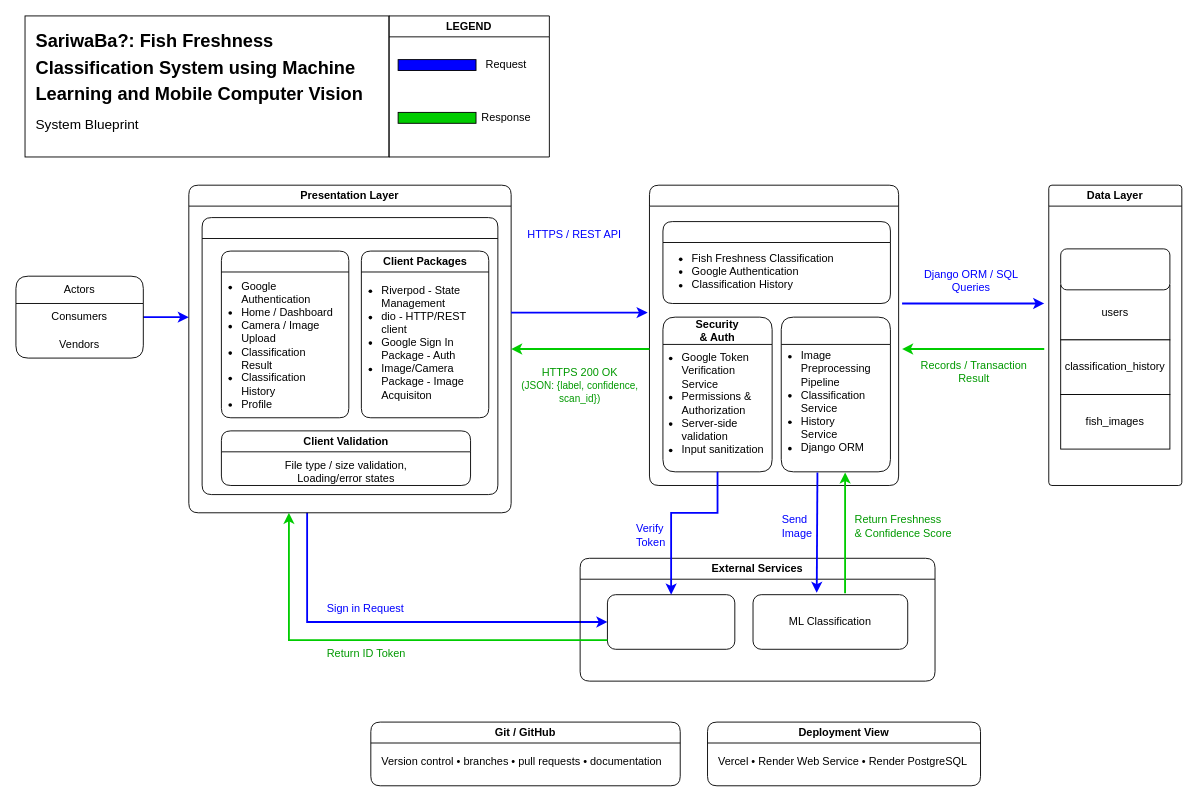
The diagram is 1198 pixels wide and 802 high, and some of its shapes have lost their labels. The box of each missing label's shape, as (x1, y1, x2, y2) in pixels:
API Routers / Controllers: (662, 221, 890, 303)
Application Layer: (649, 184, 899, 485)
Business Logic & Processing: (780, 316, 890, 472)
Flutter Application (Web and Mobile): (201, 217, 498, 495)
Google OAuth: (607, 594, 735, 649)
PostgreSQL Database: (1060, 248, 1170, 290)
Screens: (220, 250, 349, 418)
